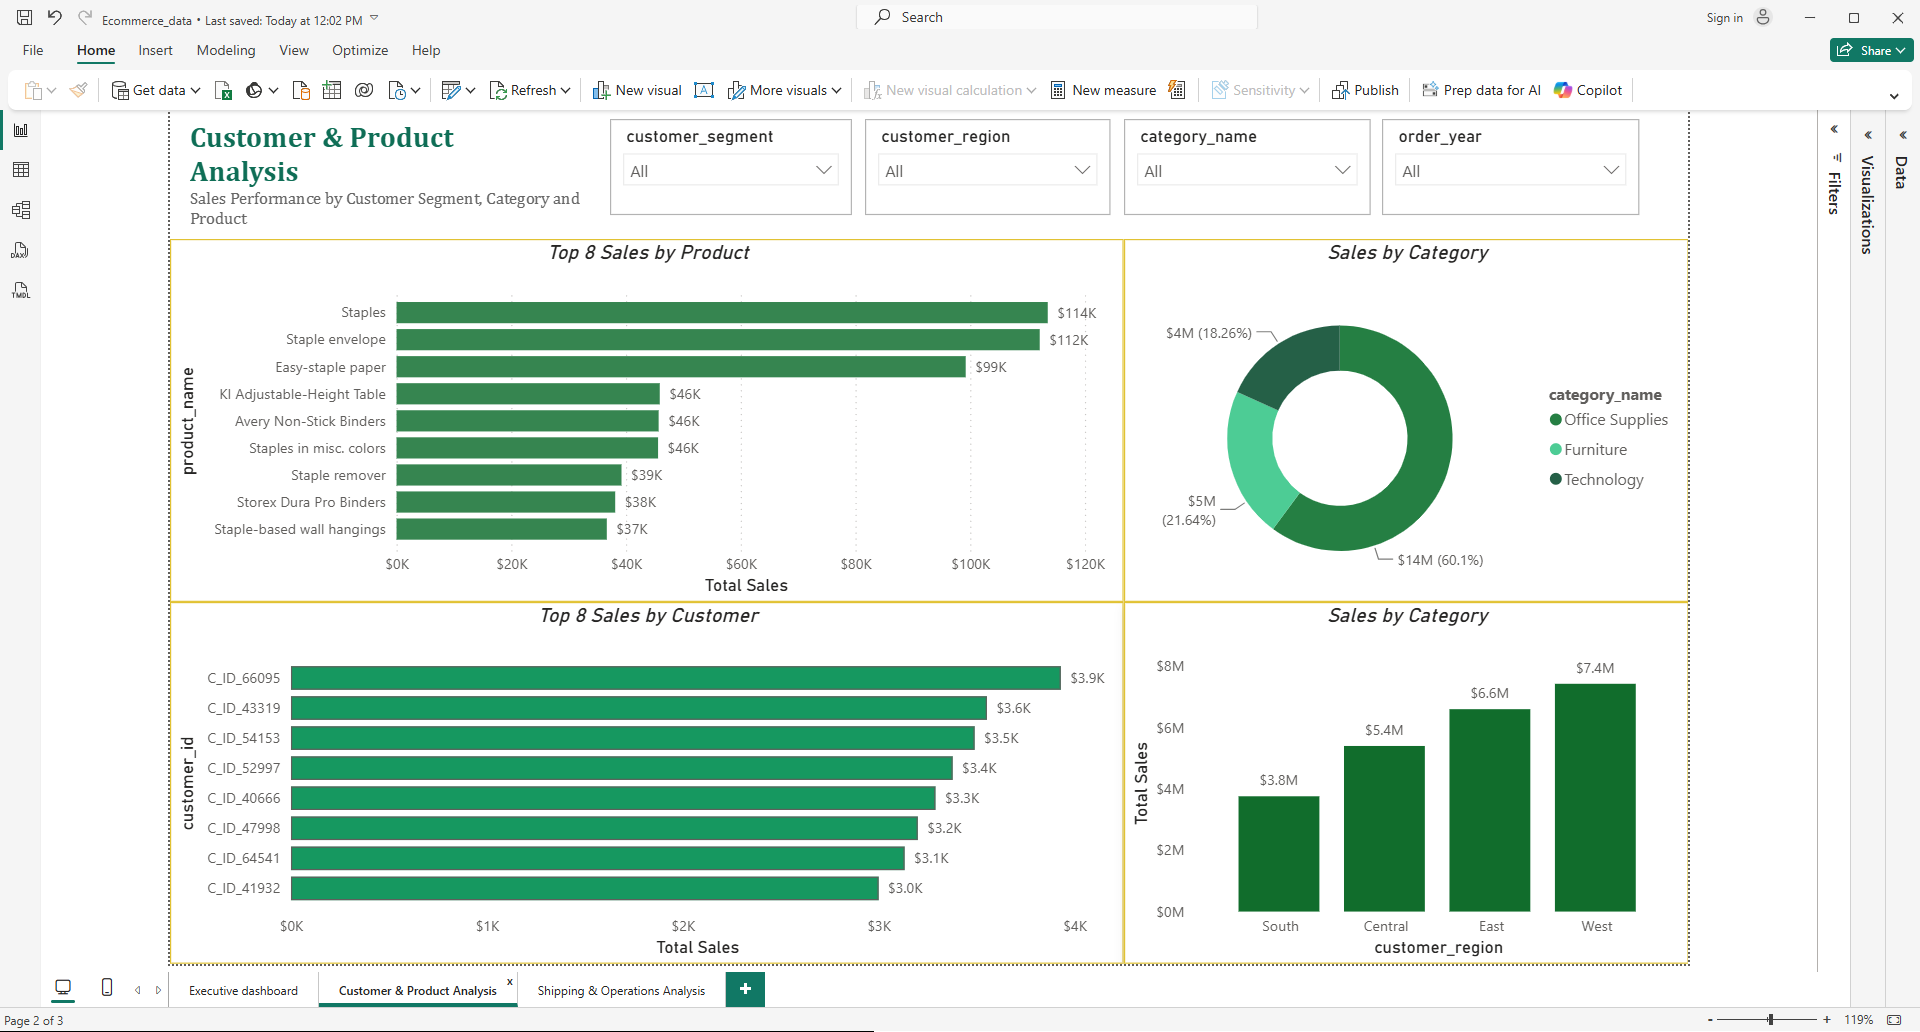

Layout of this report page (visuals, bound fields, positions):
{"tool":"powerbi","page":{"name":"Customer & Product Analysis","canvas":[1280,720],"ordinal":1},"visuals":[{"type":"textbox","box":[8.1,8.1,383.7,146.2],"z":0},{"type":"clusteredBarChart","title":"Top 8 Sales by Customer","fields":{"Category":["Ecommerce_data.customer_id"],"Y":["Ecommerce_data.Total Sales"]},"box":[0,443.6,803.9,276.1],"z":1000},{"type":"clusteredColumnChart","title":"Sales by Category ","fields":{"Category":["Ecommerce_data.category_name"],"Y":["Ecommerce_data.Total Sales"]},"box":[803.9,443.6,476.1,276.1],"z":2000},{"type":"clusteredBarChart","title":"Top 8 Sales by Product","fields":{"Category":["Ecommerce_data.product_name"],"Y":["Ecommerce_data.Total Sales"]},"box":[0,162.4,803.9,281.2],"z":3000},{"type":"donutChart","title":"Sales by Category ","fields":{"Y":["Ecommerce_data.Total Sales"],"Category":["Ecommerce_data.category_name"]},"box":[803.9,162.4,476.1,281.2],"z":4000},{"type":"slicer","fields":{"Values":["Ecommerce_data.customer_segment"]},"box":[426.3,8.1,203.3,145.9],"z":5000},{"type":"slicer","fields":{"Values":["Ecommerce_data.customer_region"]},"box":[629.3,8.1,206.2,145.9],"z":6000},{"type":"slicer","fields":{"Values":["Ecommerce_data.category_name"]},"box":[835.4,8.1,207.2,145.9],"z":7000},{"type":"slicer","fields":{"Values":["Ecommerce_data.order_year"]},"box":[1042.5,8.1,216.9,145.9],"z":8000}]}

Visuals, with their boxes on the page's 1280x720 design canvas (x1, y1, x2, y2). These are canvas units, not pixel positions in the 1920x1032 screenshot, which may show the page scaled, cropped or inside an application window:
textbox: {"x1": 8, "y1": 8, "x2": 392, "y2": 154}
"Top 8 Sales by Customer" clusteredBarChart: {"x1": 0, "y1": 444, "x2": 804, "y2": 720}
"Sales by Category " clusteredColumnChart: {"x1": 804, "y1": 444, "x2": 1280, "y2": 720}
"Top 8 Sales by Product" clusteredBarChart: {"x1": 0, "y1": 162, "x2": 804, "y2": 444}
"Sales by Category " donutChart: {"x1": 804, "y1": 162, "x2": 1280, "y2": 444}
slicer - Ecommerce_data.customer_segment: {"x1": 426, "y1": 8, "x2": 630, "y2": 154}
slicer - Ecommerce_data.customer_region: {"x1": 629, "y1": 8, "x2": 836, "y2": 154}
slicer - Ecommerce_data.category_name: {"x1": 835, "y1": 8, "x2": 1043, "y2": 154}
slicer - Ecommerce_data.order_year: {"x1": 1042, "y1": 8, "x2": 1259, "y2": 154}
